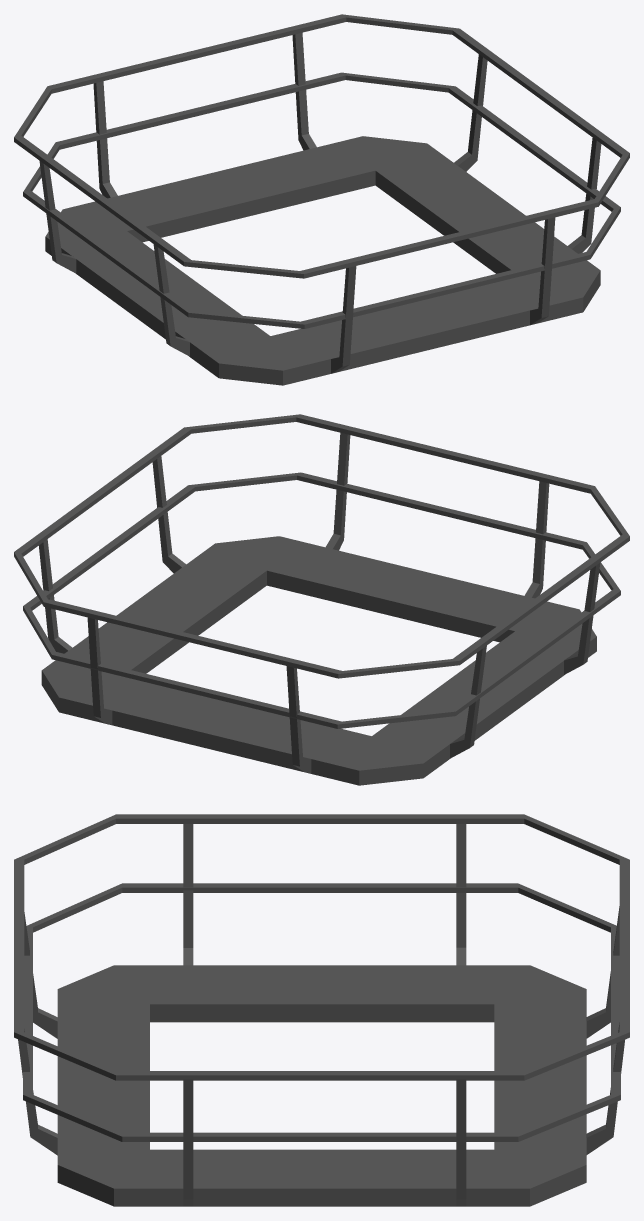
The model's file is SM_Crane_03.fbx.
The picture shows the model from 3 angles, top to bottom: view 1: azimuth 30°, elevation 25°; view 2: azimuth 150°, elevation 25°; view 3: azimuth 270°, elevation 25°; orthographic projection. The views are drawn at different scales.
Visible parts, largest first — view 1: SM_Crane_03; view 2: SM_Crane_03; view 3: SM_Crane_03.
Boxes of the visible parts, bbox=[...] form: SM_Crane_03: bbox=[14, 14, 629, 385]; SM_Crane_03: bbox=[14, 414, 629, 785]; SM_Crane_03: bbox=[14, 814, 629, 1206].
Size of the model in its own units: 331 by 87.99 by 330.
